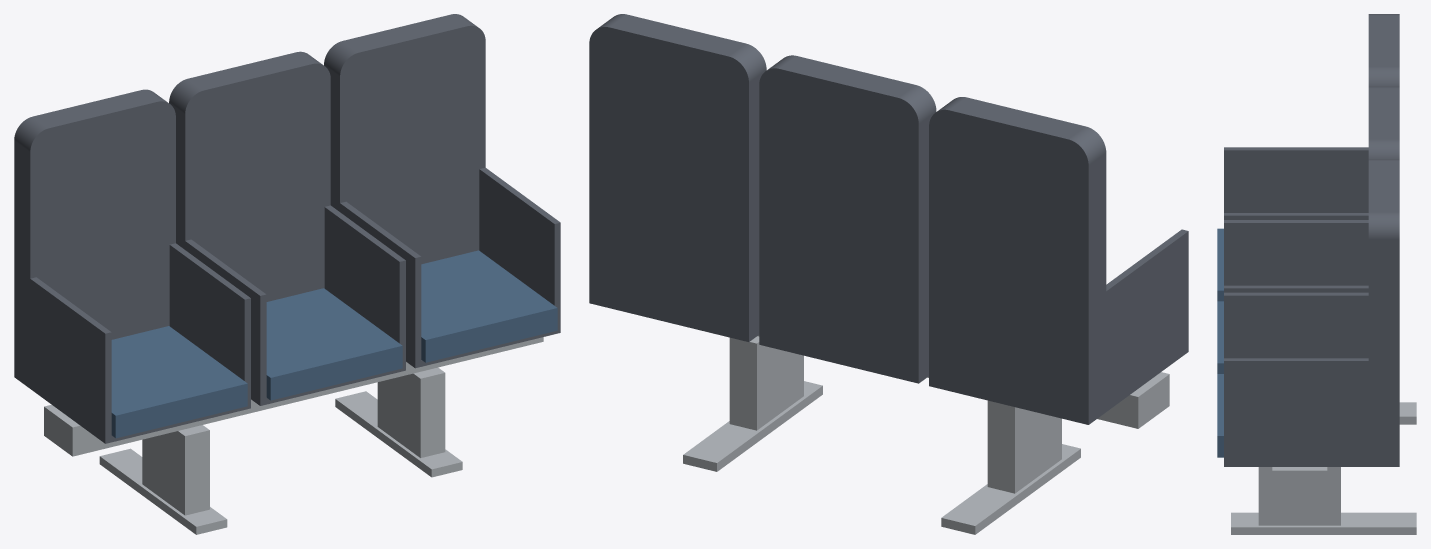
File: step_04.glb
3 renders of one model, left to right at view 1: azimuth 30°, elevation 25°; view 2: azimuth 150°, elevation 25°; view 3: azimuth 270°, elevation 25°, orthographic. The views are drawn at different scales.
Parts seen in each view (by area): view 1: part__fixed shells, part__sliding seat pans and cushions, part__pedestal legs and track rails, part__box beam; view 2: part__fixed shells, part__pedestal legs and track rails, part__box beam; view 3: part__fixed shells, part__pedestal legs and track rails, part__box beam, part__sliding seat pans and cushions.
Boxes of the visible parts, x1,y1,x2,y2 form: part__fixed shells: (14, 14, 560, 443); part__sliding seat pans and cushions: (111, 250, 557, 438); part__pedestal legs and track rails: (99, 367, 462, 534); part__box beam: (44, 337, 543, 456); part__fixed shells: (589, 14, 1188, 424); part__pedestal legs and track rails: (683, 336, 1080, 534); part__box beam: (758, 335, 1169, 428); part__fixed shells: (1224, 14, 1399, 466); part__pedestal legs and track rails: (1231, 402, 1416, 534); part__box beam: (1272, 467, 1327, 498); part__sliding seat pans and cushions: (1217, 228, 1223, 457).
Bounding box in the file's own units: 1520 × 1150 × 580.
